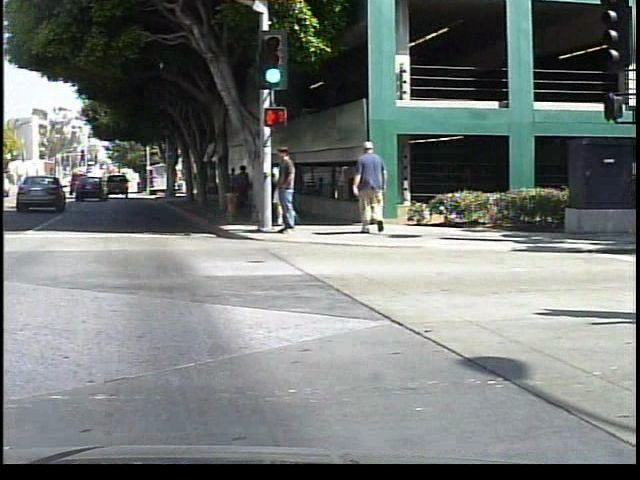person: (347, 138, 396, 236), (266, 143, 304, 242), (273, 146, 303, 228), (236, 162, 255, 211)
